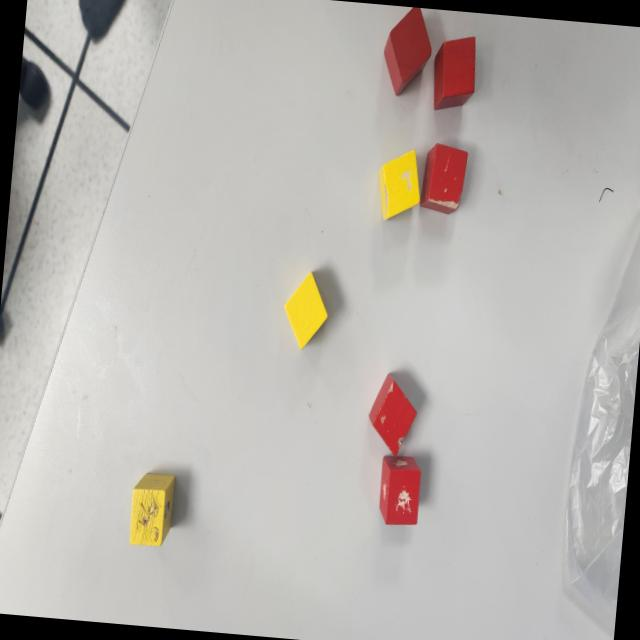broken: (364, 372, 420, 459), (374, 146, 424, 226), (128, 471, 176, 550), (418, 142, 469, 216), (377, 453, 422, 528)
red: (379, 5, 434, 101), (428, 32, 479, 115)
yellow: (280, 268, 330, 352)
